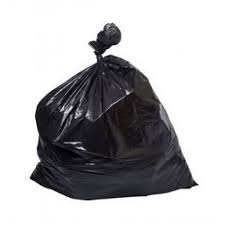Trash: (19, 16, 207, 202)
